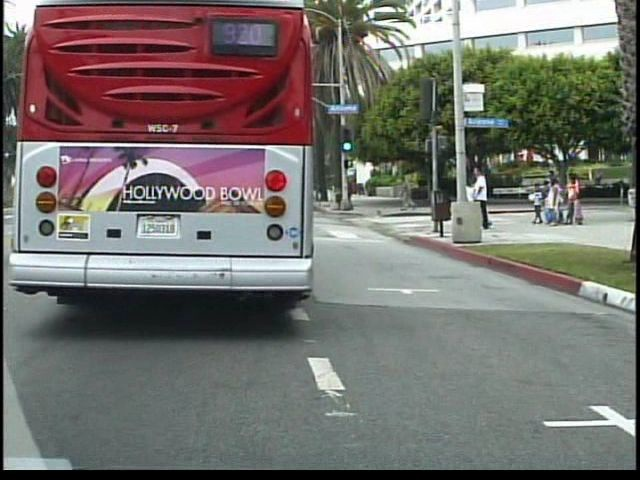person: (468, 162, 496, 231), (460, 172, 482, 226), (399, 172, 418, 213)
